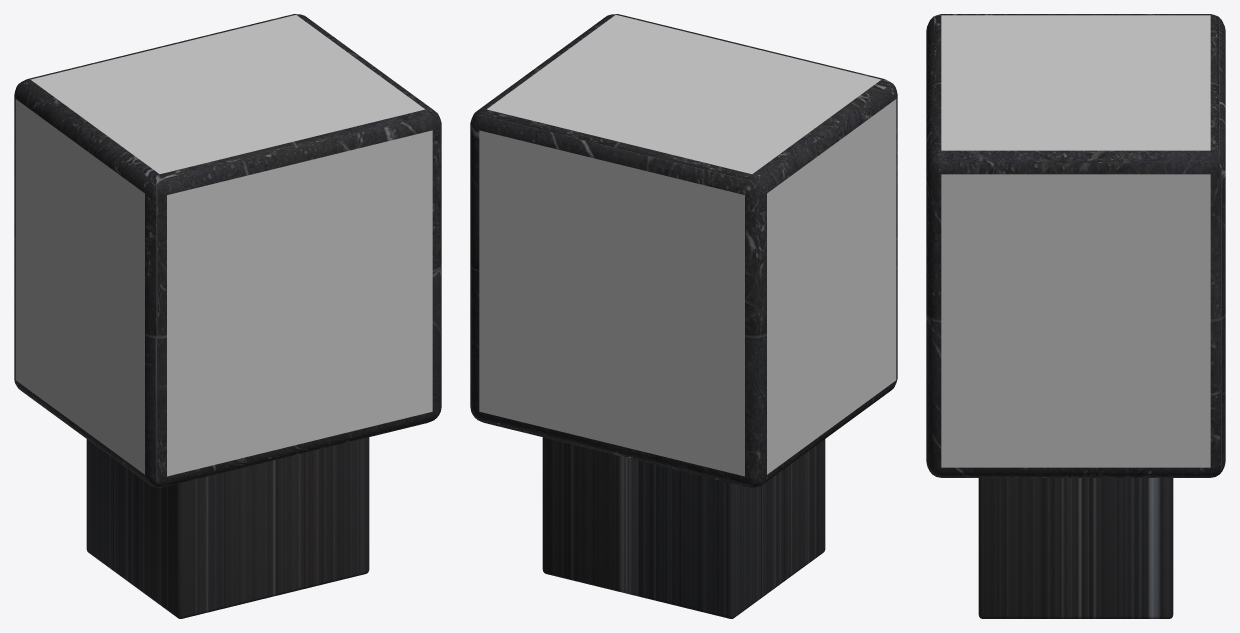
The model's file is 玻璃柜台.obj.
3 views of the same model, side by side, from view 1: azimuth 30°, elevation 25°; view 2: azimuth 150°, elevation 25°; view 3: azimuth 270°, elevation 25° (orthographic). The views are drawn at different scales.
Parts seen in each view (by area): view 1: 玻璃, 柜台; view 2: 玻璃, 柜台; view 3: 玻璃, 柜台.
Boxes of the visible parts, x1,y1,x2,y2 form: 玻璃: (15,15,432,476); 柜台: (14,14,441,618); 玻璃: (479,15,896,476); 柜台: (470,14,897,618); 玻璃: (941,15,1210,467); 柜台: (926,14,1225,618).
Bounding box in the file's own units: 2.97 × 4.57 × 2.5.
2 materials, 1 textured.
